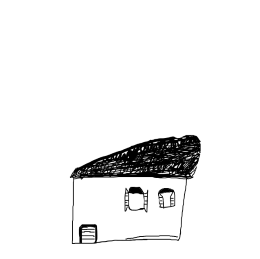bottom_placed_house: (0, 0, 259, 259)
door: (76, 219, 101, 249)
open_window: (120, 185, 150, 217), (155, 186, 177, 213)
shaded_roof: (60, 131, 205, 182)
small_house: (4, 4, 260, 259)
wall: (68, 173, 189, 247)
